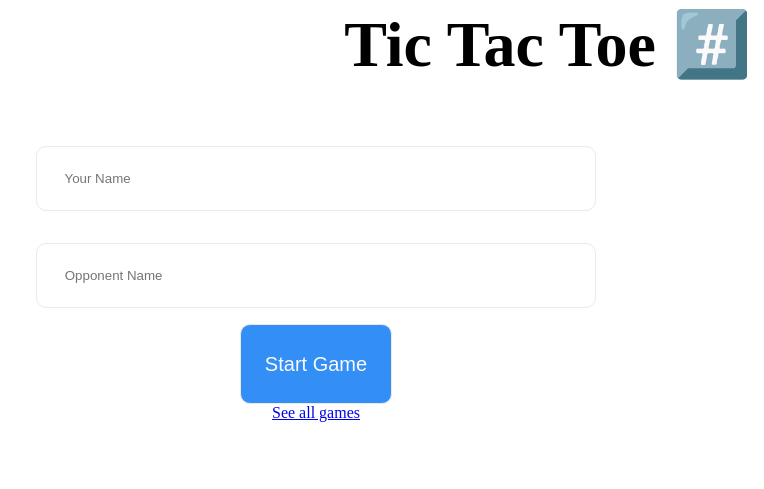
Scenario: Home Page › shows error when player 1 name is missing
# Fill only player 2 name
Step 1. Type "Player 2" into the field with placeholder "Opponent Name" → {"x": 316, "y": 275}, box [36,243,596,308]
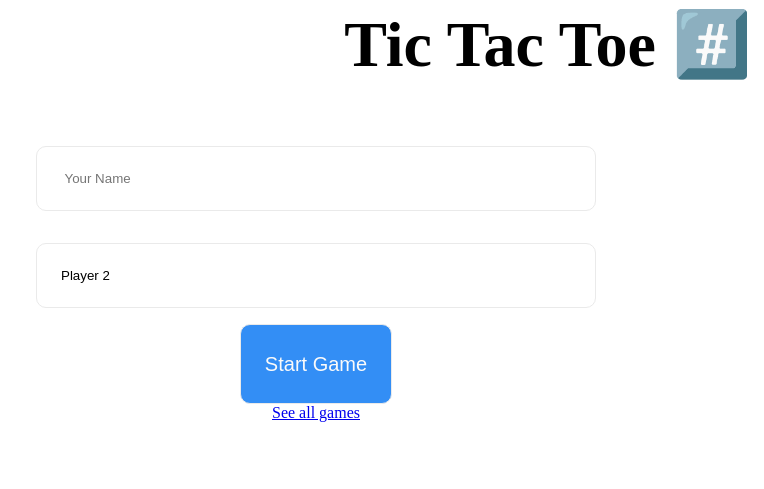
# Submit the form
Step 2. Submit the form, box [16,130,616,404]
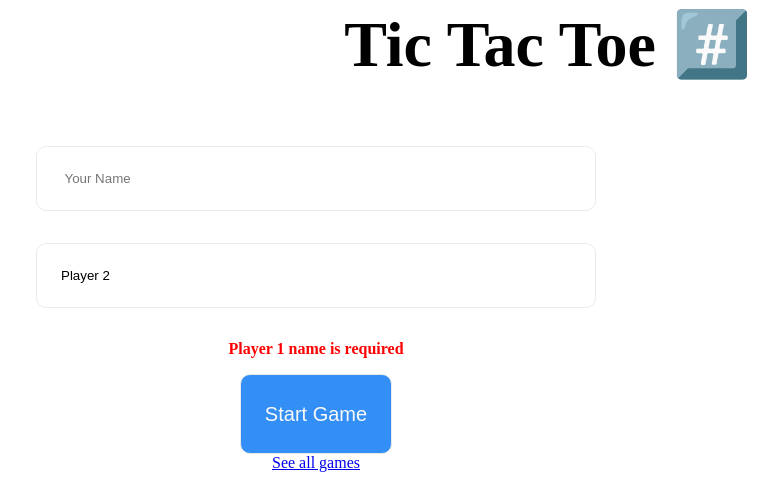
Check: the text "Player 1 name is required" is shown, box [228,340,404,357]
